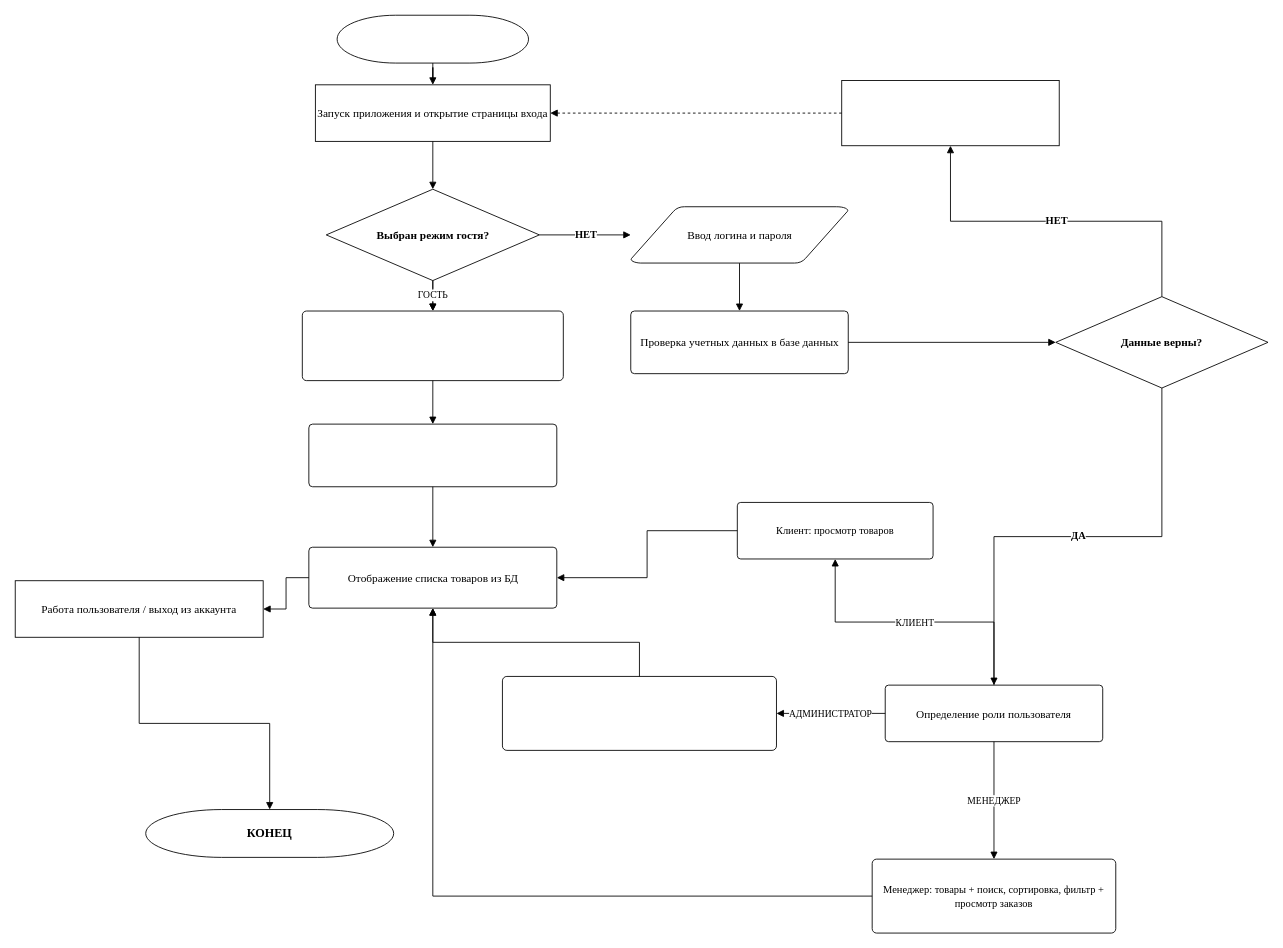
Image size: 1283x948. Some labels were removed from this diagram. The centre of each missing label's shape, as x and y in pixels:
"Администратор: товары и заказы + добавление, редактирование, удаление" belongs at point (639, 713).
"Гость: просмотр товаров без поиска, фильтрации и сортировки" belongs at point (432, 345).
"НАЧАЛО" belongs at point (432, 38).
"Подключение к базе данных и получение товаров" belongs at point (432, 455).
"Сообщение об ошибке и возврат к странице входа" belongs at point (950, 113).
